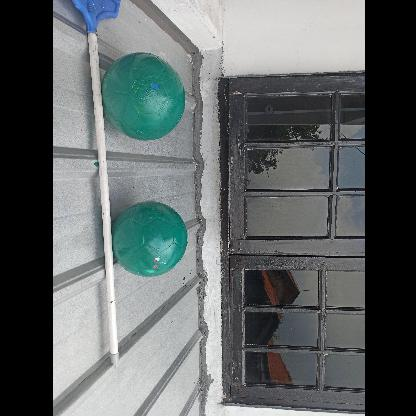green_ball: (100, 53, 186, 140), (112, 202, 188, 278)
